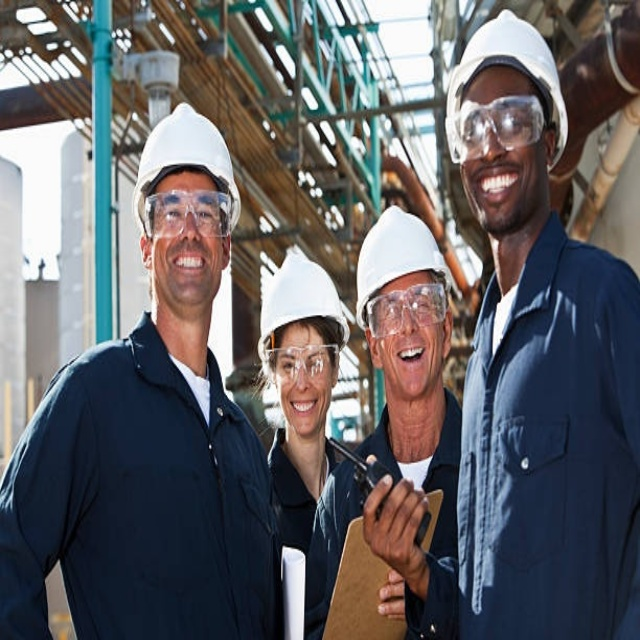Gafas: (451, 91, 546, 165), (366, 279, 450, 336), (144, 187, 232, 238), (262, 344, 339, 384)
Sin_guantes: (361, 459, 433, 582)
Sin_mascara: (471, 162, 523, 227), (390, 339, 428, 387), (167, 253, 209, 295), (290, 394, 320, 428)
